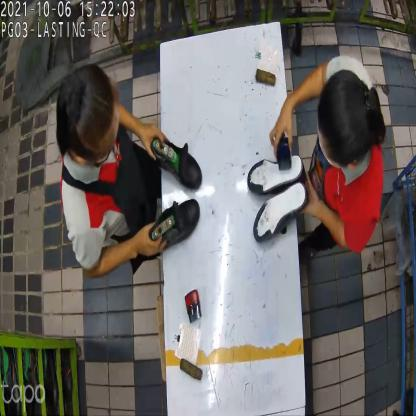shoes: (144, 131, 206, 252), (245, 154, 310, 244)
stamp: (273, 137, 295, 172), (184, 292, 203, 325)
